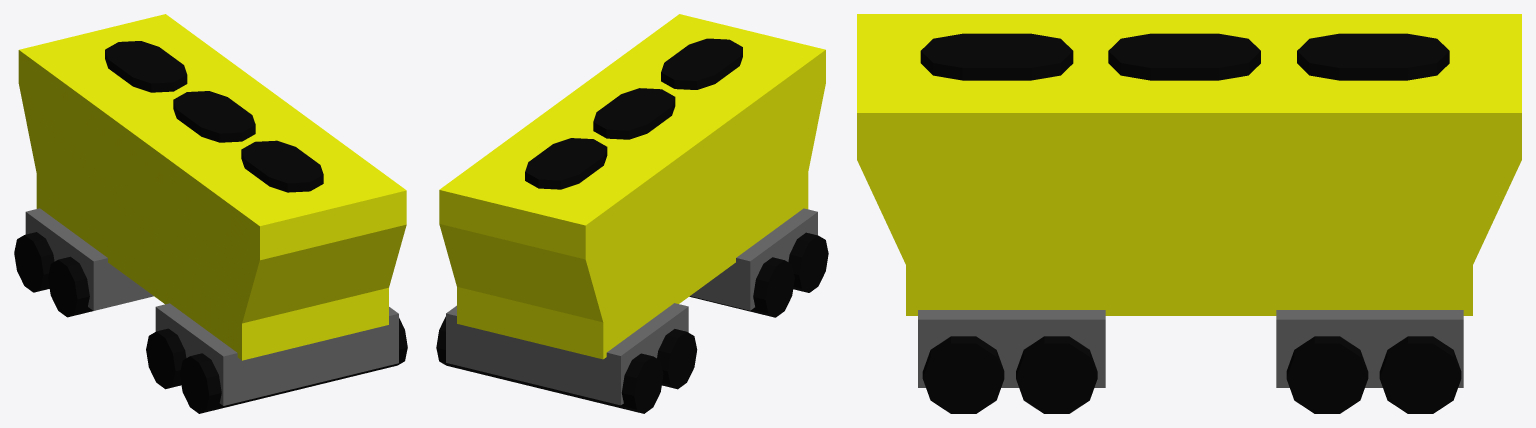
The model's file is GrainCar.glb.
The picture shows the model from 3 angles, left to right: view 1: azimuth 30°, elevation 25°; view 2: azimuth 150°, elevation 25°; view 3: azimuth 270°, elevation 25°; orthographic projection. The views are drawn at different scales.
Visible parts, largest first — view 1: Cylinder; view 2: Cylinder; view 3: Cylinder.
Boxes of the visible parts, bbox=[...] form: Cylinder: bbox=[14, 14, 407, 413]; Cylinder: bbox=[436, 14, 828, 413]; Cylinder: bbox=[857, 14, 1521, 413].
Bounding box in the file's own units: 2.26 × 2.35 × 4.76.
